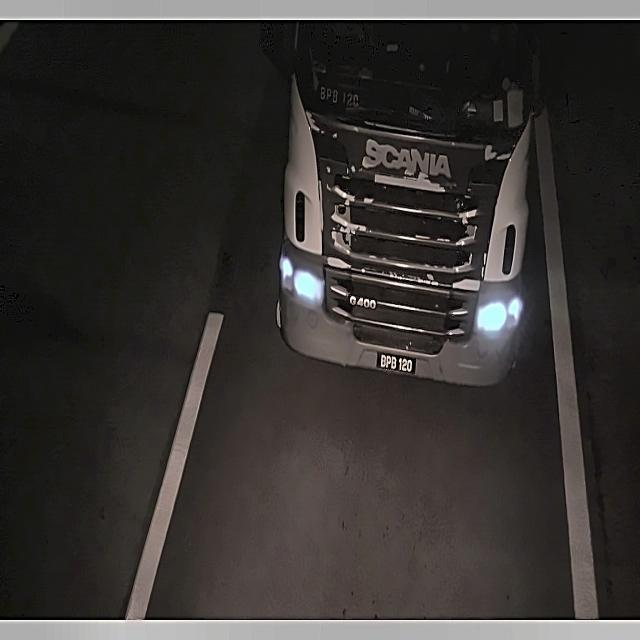car: (371, 350, 419, 379)
